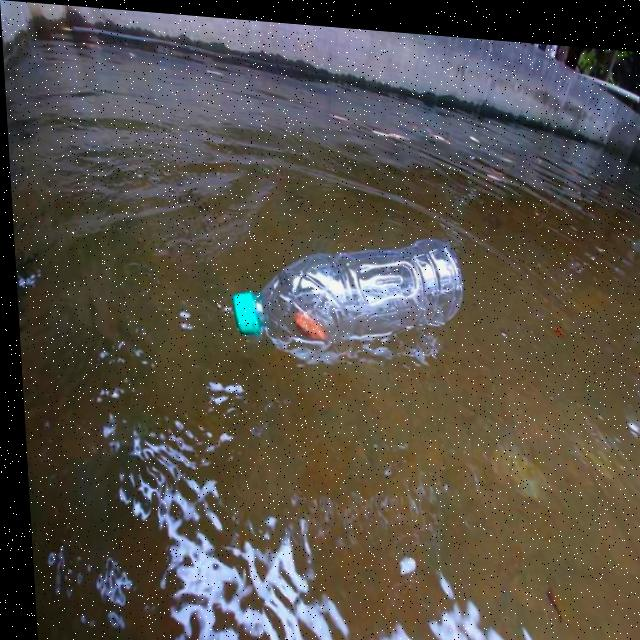waterbottle: (216, 199, 476, 376)
